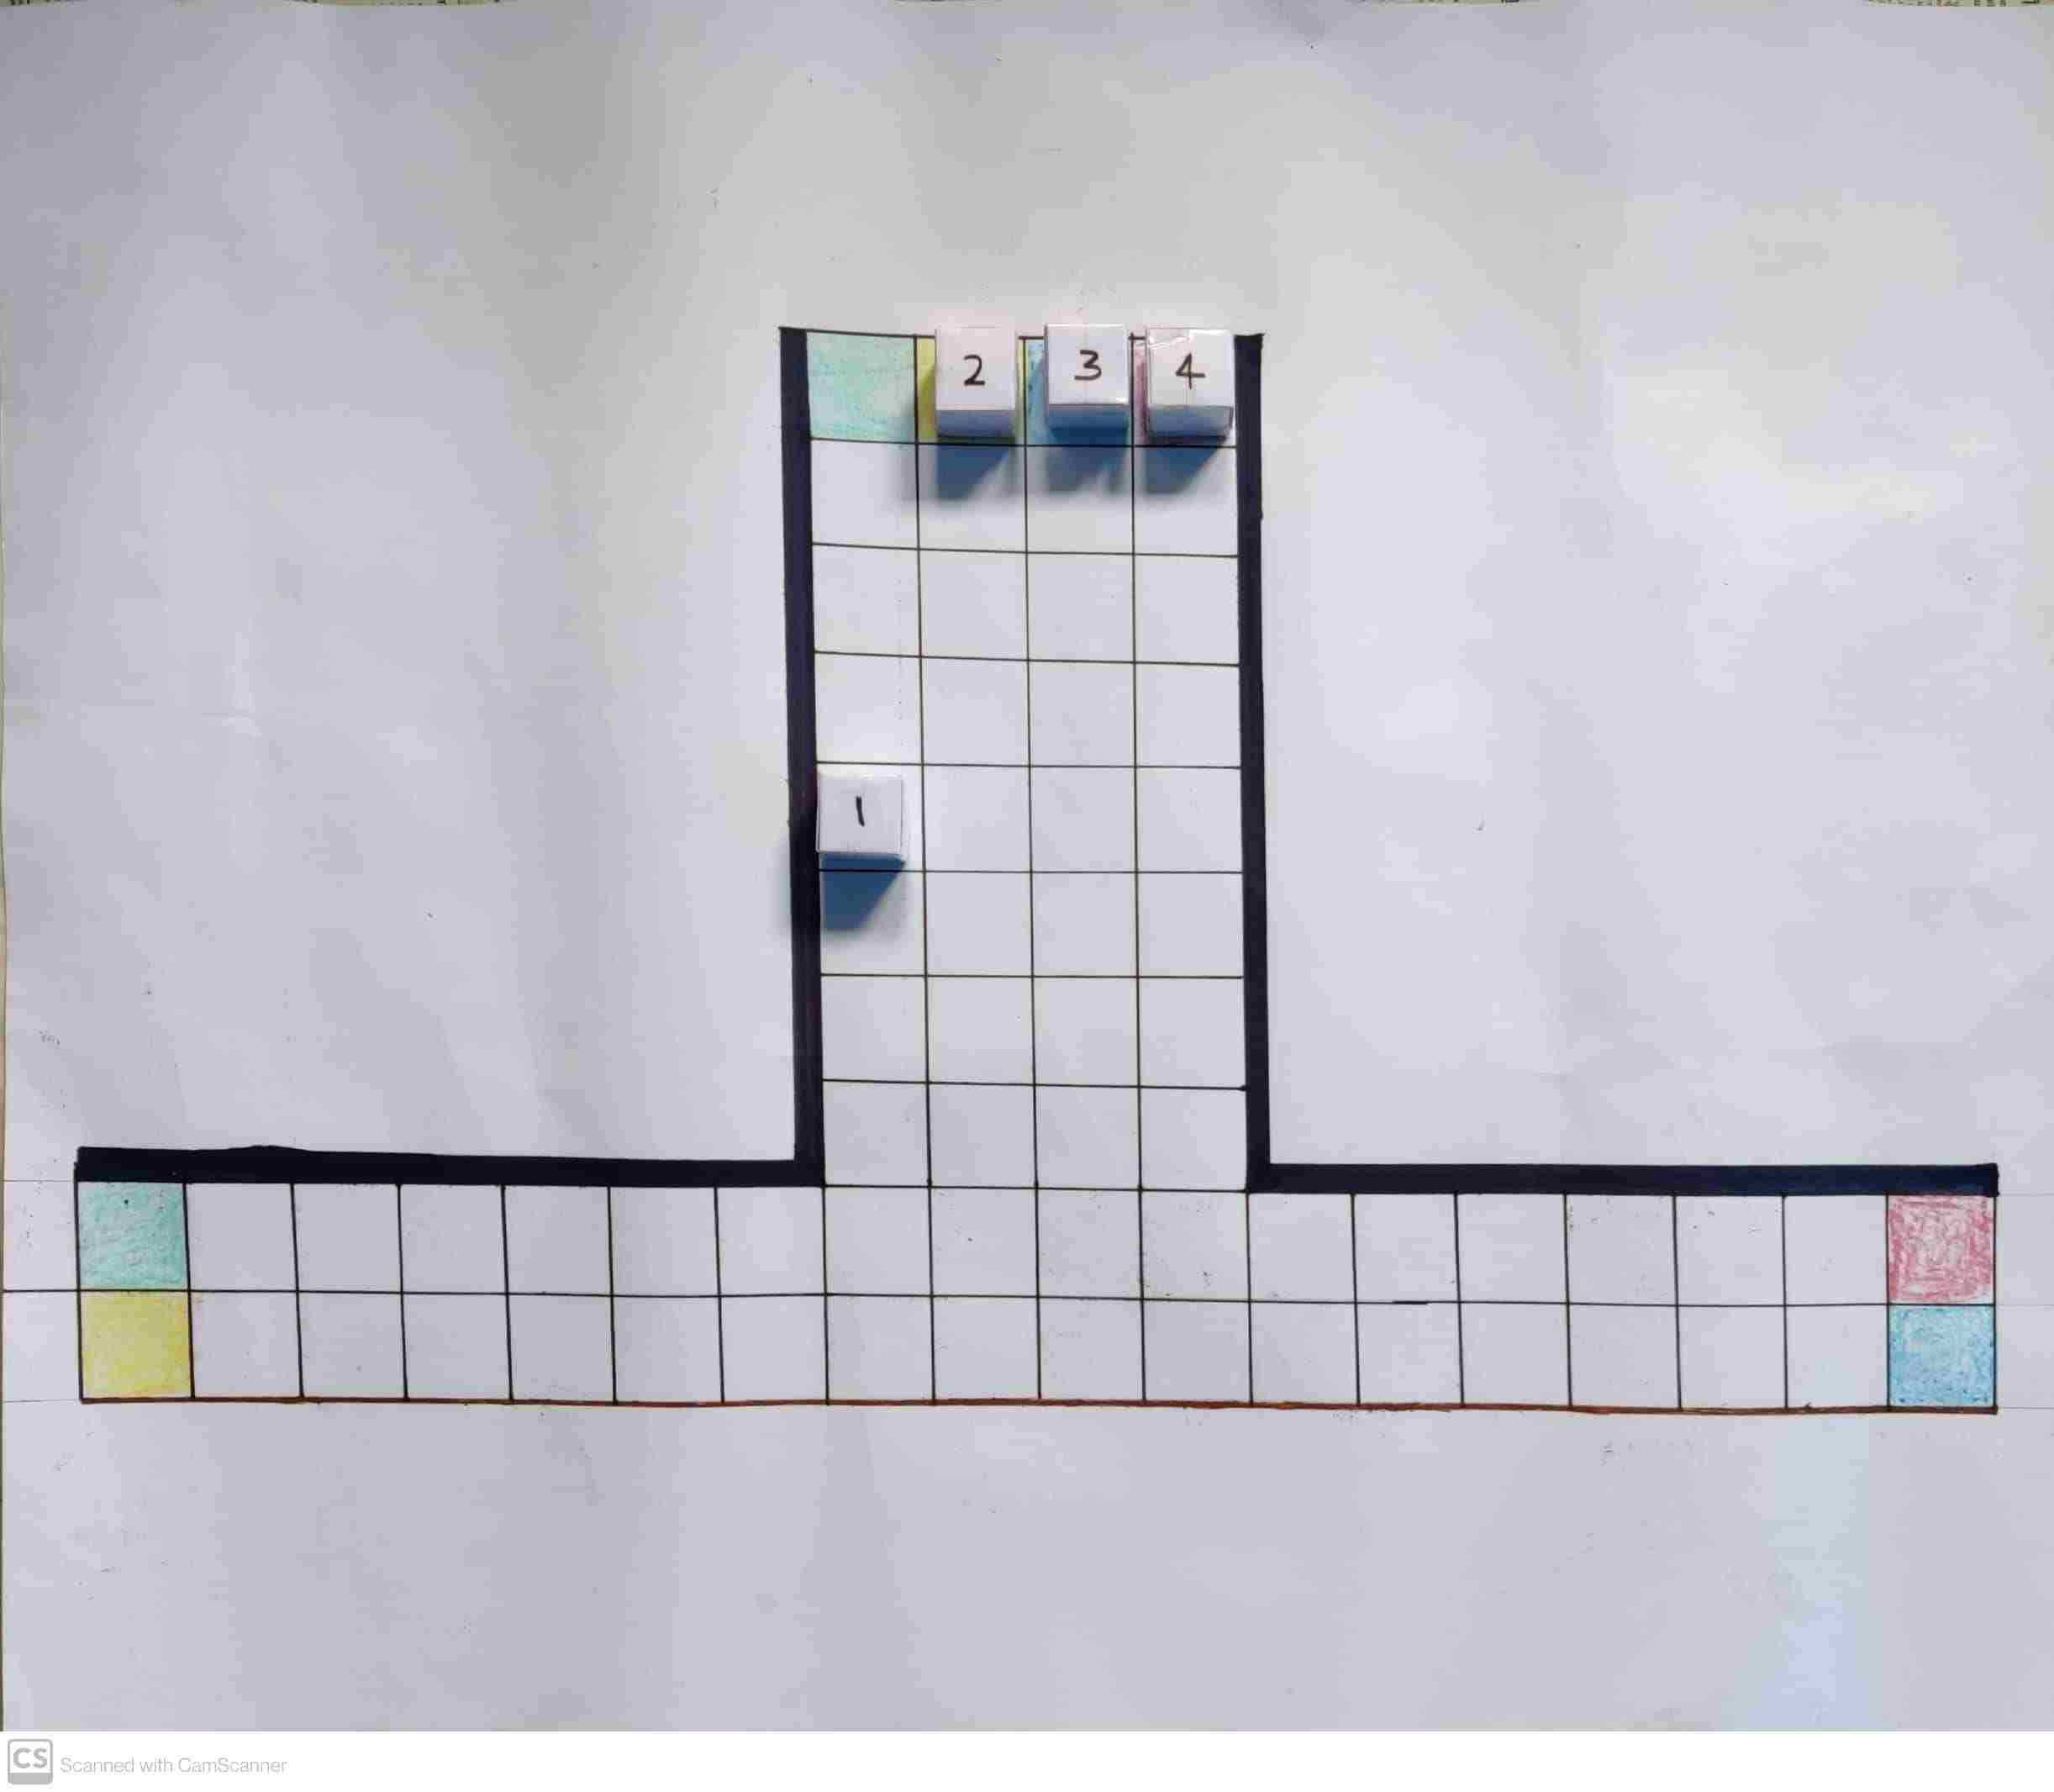arena: (75, 328, 2002, 1409)
bot: (1149, 325, 1233, 409), (819, 774, 901, 854), (1050, 330, 1135, 405), (938, 330, 1013, 412)
